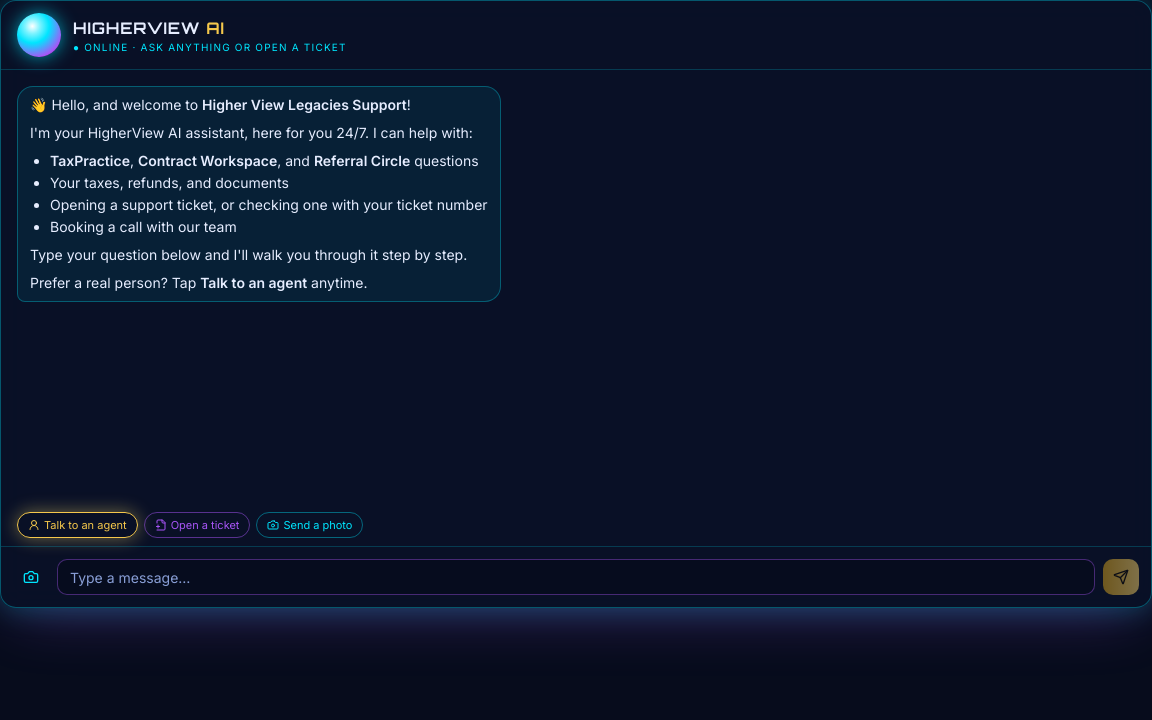
Test: SupportChatWidget › submits the AI-prepared ticket once and shows the chat link
Type "refund stuck" into the field with placeholder "Type a message…" at coordinates (576, 577), box [57,559,1095,595]
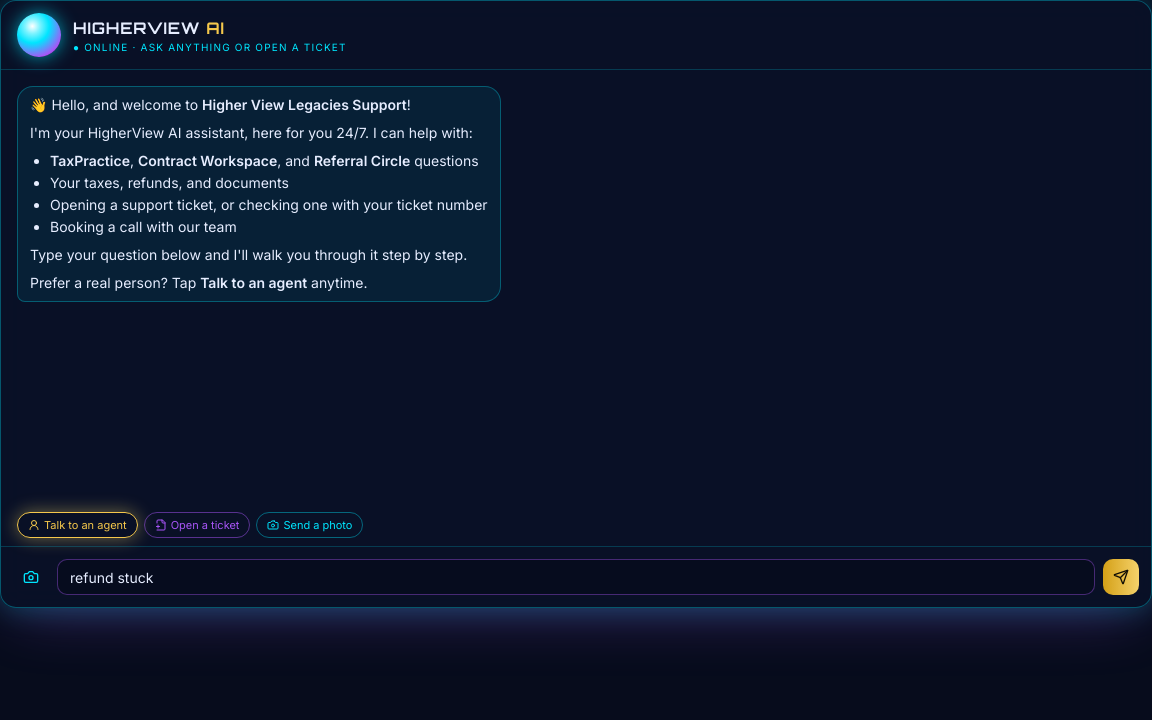
Click the button named "Send message" at coordinates (1121, 577), box [1103,559,1139,595]
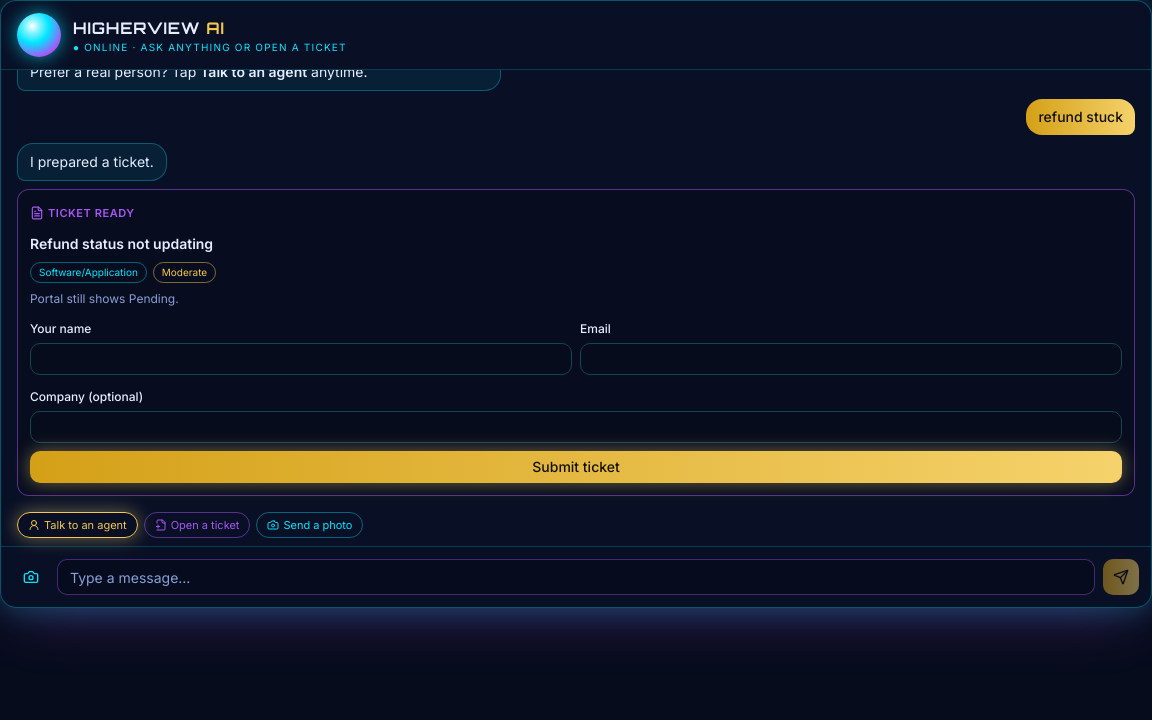
Expected: the text "Refund status not updating" is shown, [30,235,213,252]
Type "Ann" into the field labelled "Your name" at coordinates (301, 359), box [30,343,572,375]
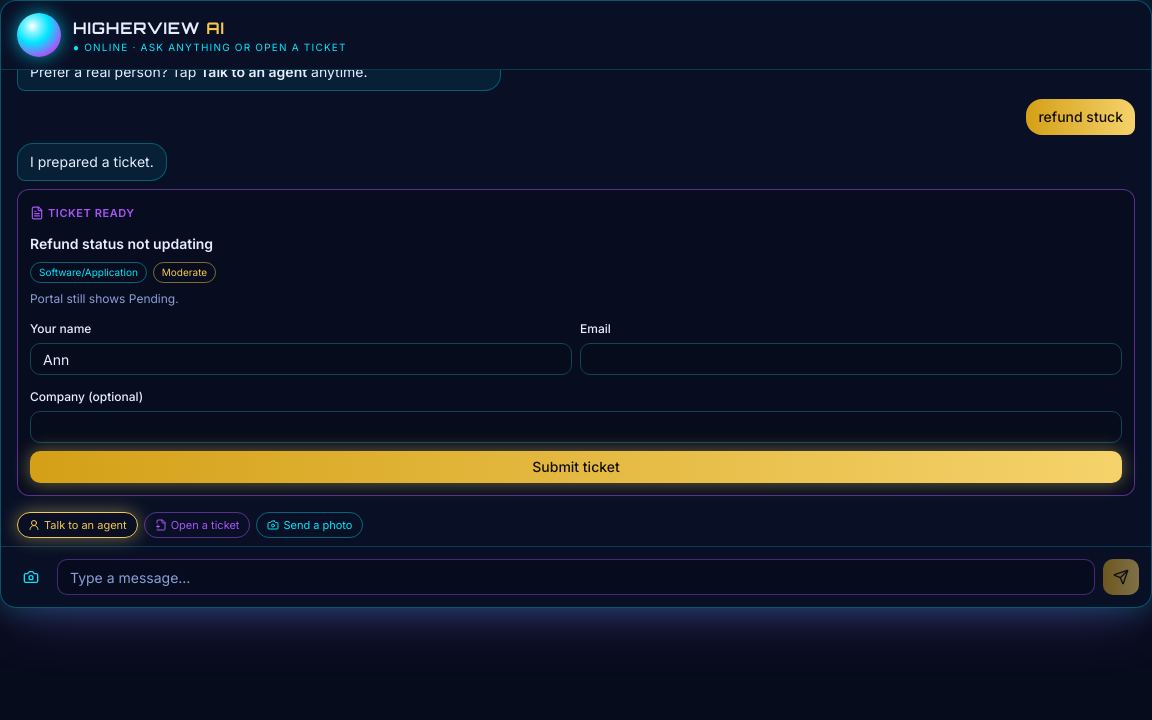
Type "ann@x.com" into the field labelled "Email" at coordinates (851, 359), box [580,343,1122,375]
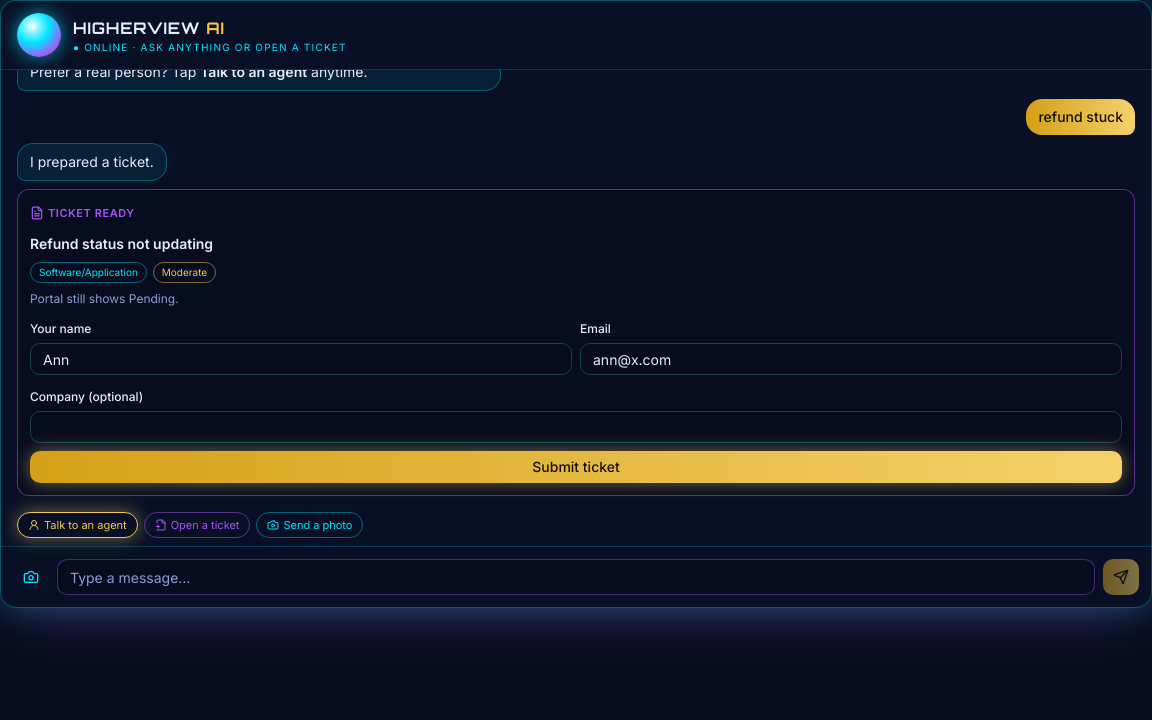
Click the button "Submit ticket" at coordinates (576, 467), box [30,451,1122,483]
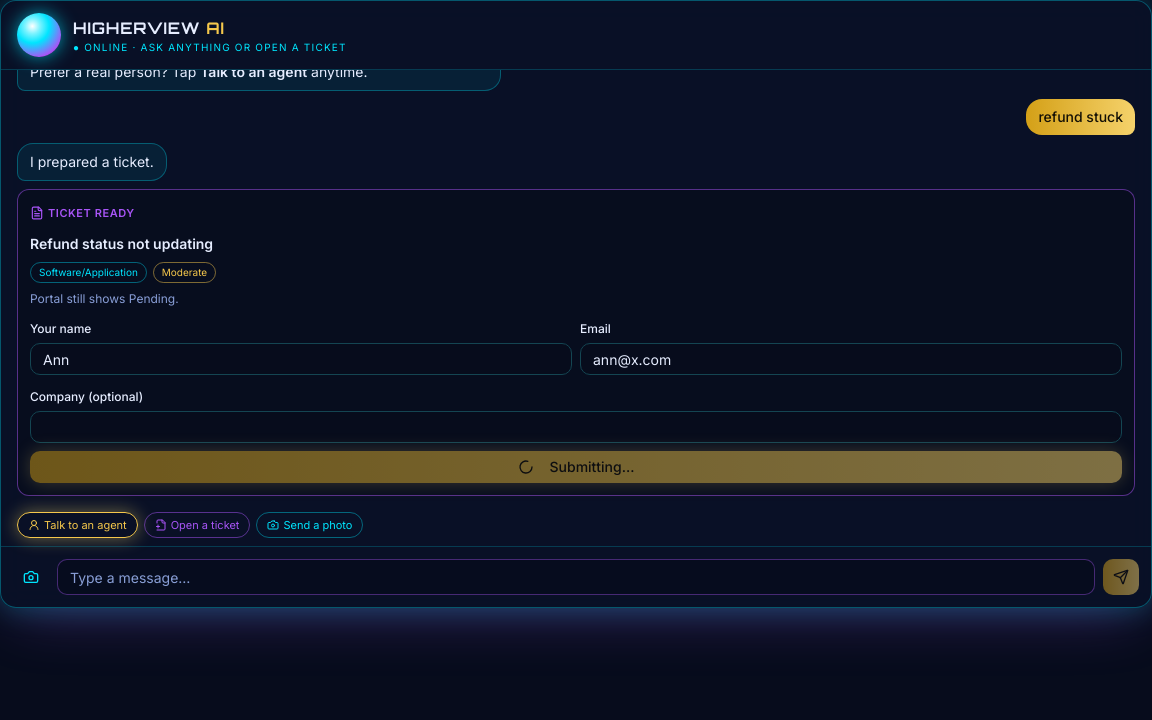
Click the button "Submitting…" at coordinates (576, 467), box [30,451,1122,483]
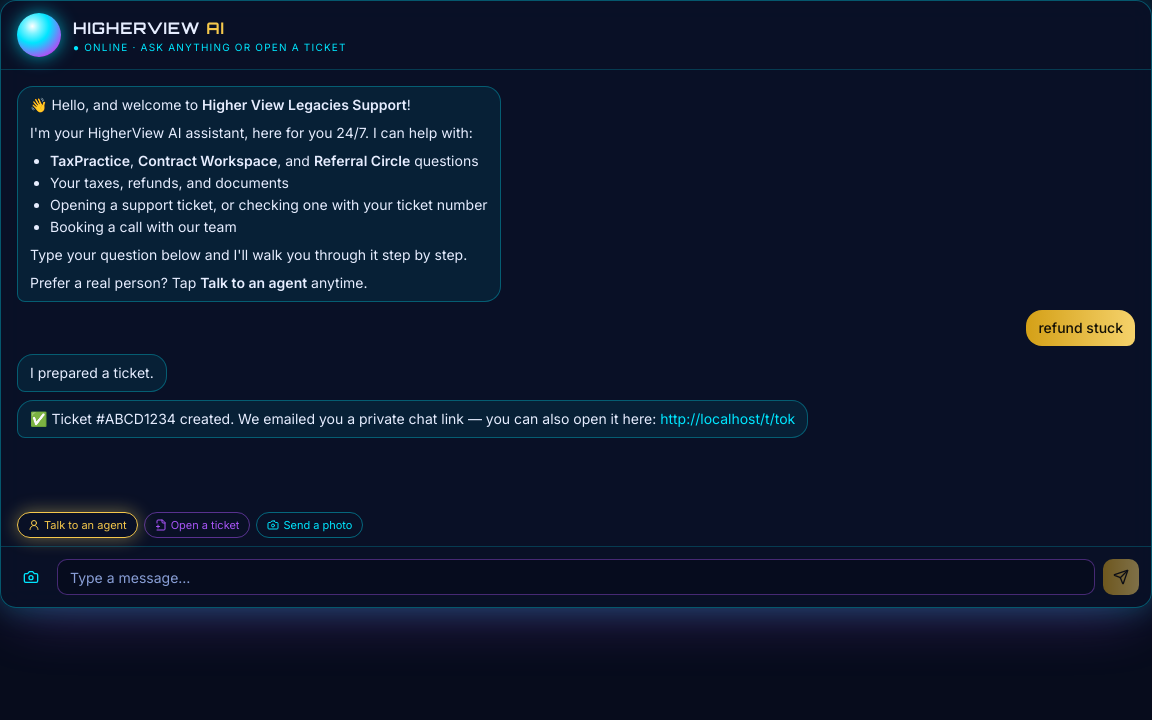
Expected: the text "Ticket #ABCD1234 created" is shown, [30,410,660,427]
